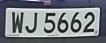2: (82, 10, 97, 35)
5: (42, 11, 57, 35)
6: (57, 11, 70, 35), (70, 12, 83, 35)
J: (24, 11, 39, 36)
W: (9, 10, 26, 37)
